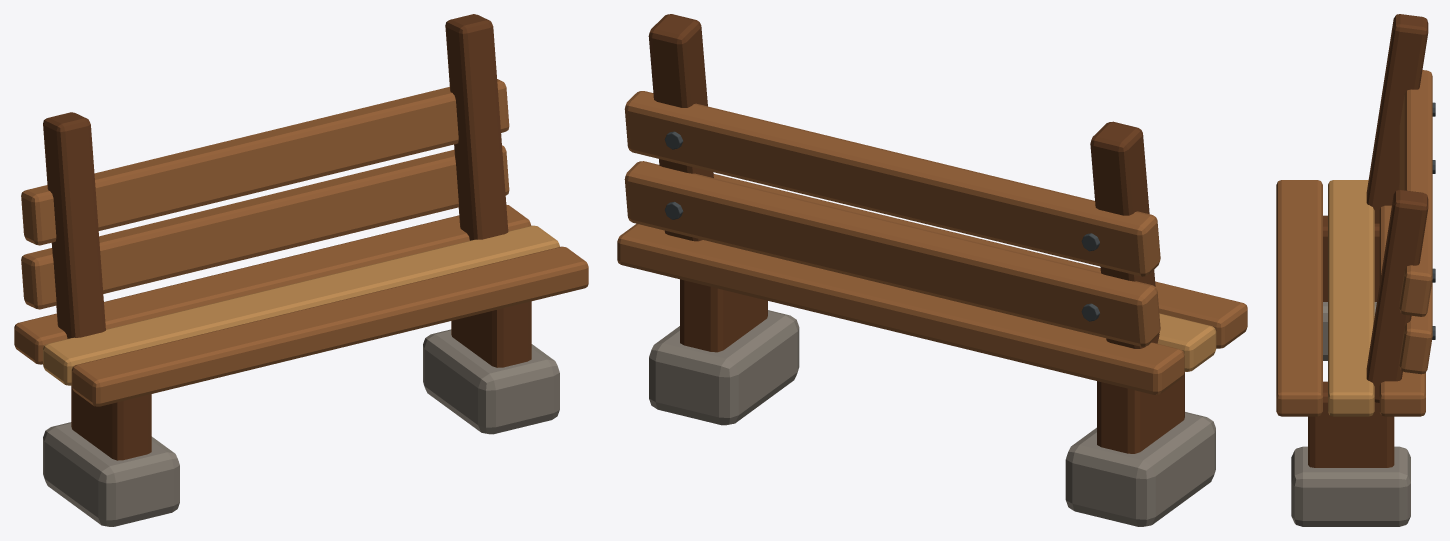
3 renders of one model, left to right at view 1: azimuth 30°, elevation 25°; view 2: azimuth 150°, elevation 25°; view 3: azimuth 270°, elevation 25°, orthographic. The views are drawn at different scales.
Parts seen in each view (by area): view 1: WK_TimberBench_LOD1_Balanced; view 2: WK_TimberBench_LOD1_Balanced; view 3: WK_TimberBench_LOD1_Balanced.
Boxes of the visible parts, x1,y1,x2,y2 form: WK_TimberBench_LOD1_Balanced: [14, 14, 588, 526]; WK_TimberBench_LOD1_Balanced: [617, 14, 1247, 526]; WK_TimberBench_LOD1_Balanced: [1276, 14, 1435, 526].
Size of the model in its own units: 3.08 by 2.15 by 0.9575.
